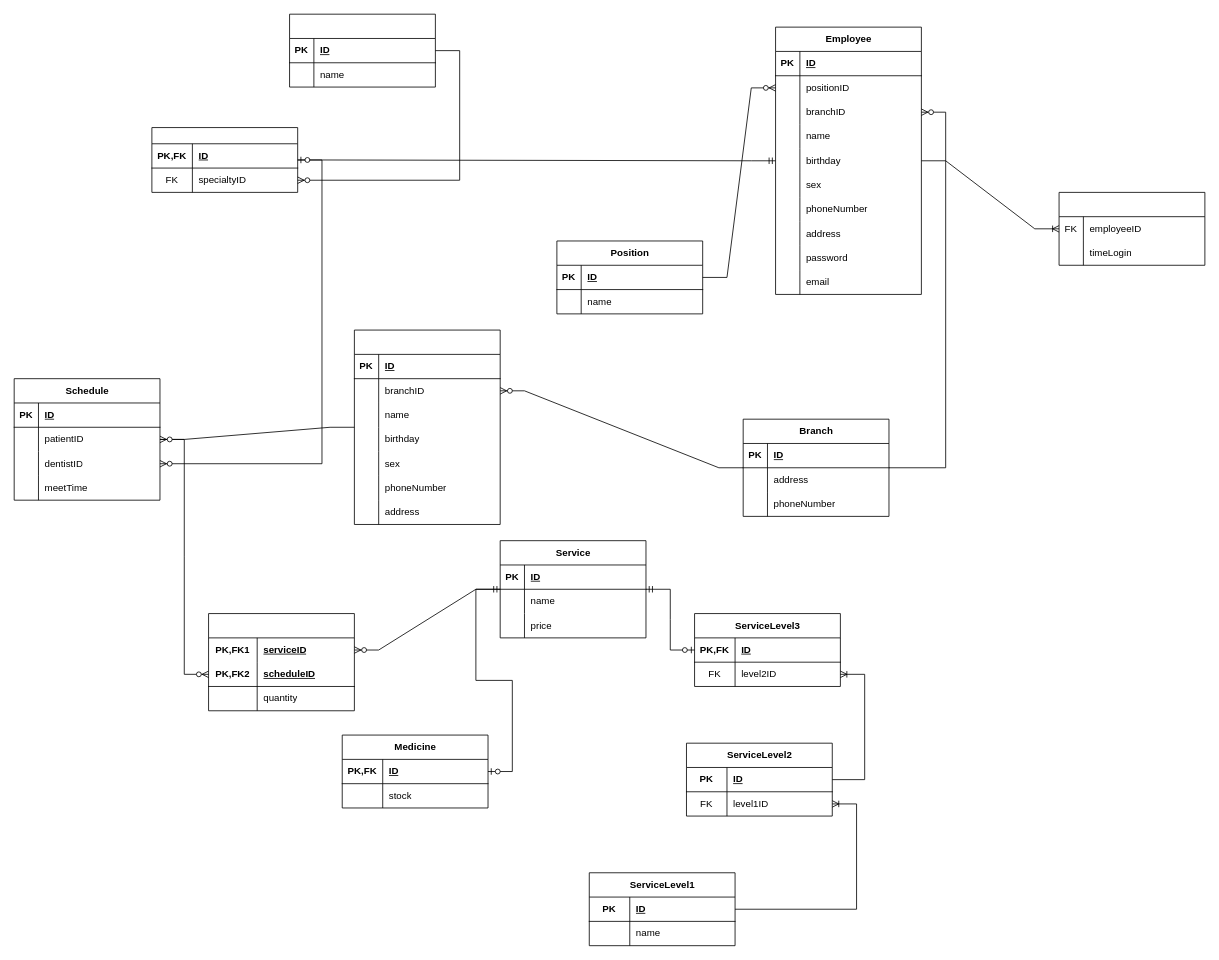
Some shapes in this 1219 by 960 pixel diagram are drawn without their labels. The shapes that lost their labels are listed below. From the top down, each one's box as (x1, y1, x2, y2) in pixels, then its label:
(289, 13, 435, 87): Specialty
(151, 127, 298, 192): Detist
(1058, 192, 1205, 265): Dữ liệu điểm danh
(354, 329, 500, 524): Patient
(208, 613, 354, 711): Bill
